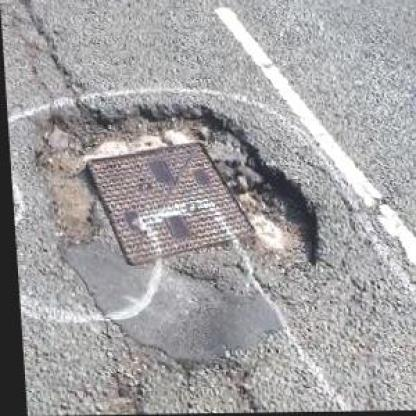pothole: (26, 96, 320, 273)
